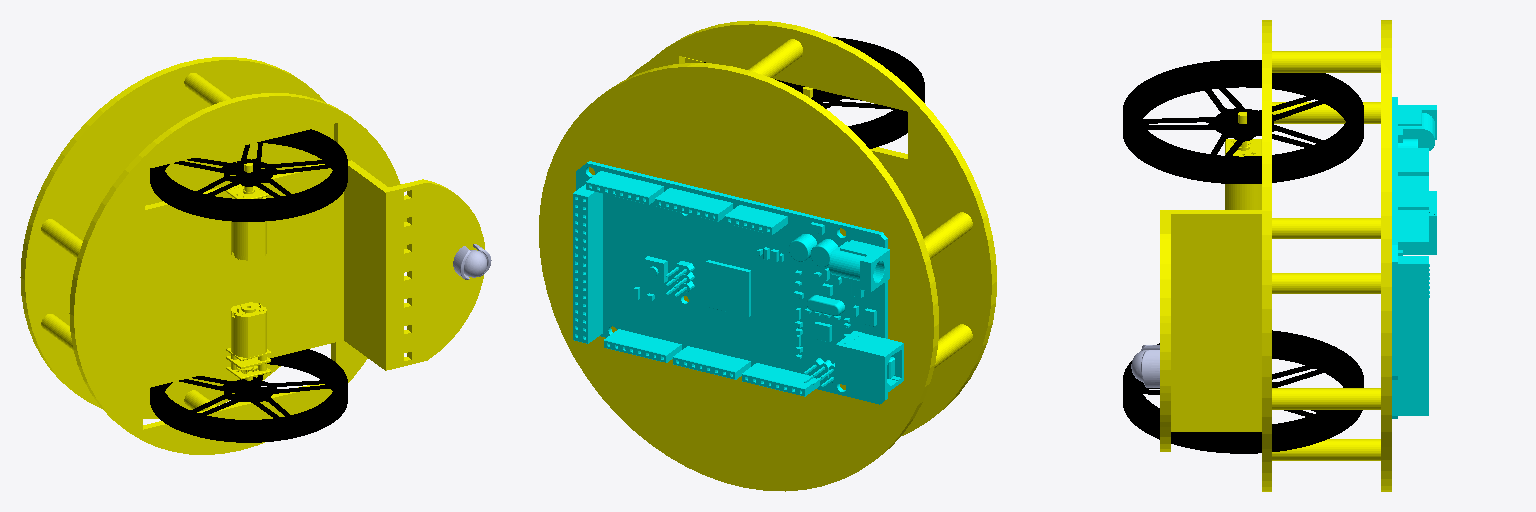
URDF robot description (Lastbotslrc7):
<?xml version="1.0" encoding="utf-8"?>
<!-- This URDF was automatically created by SolidWorks to URDF Exporter! Originally created by [author] ([email redacted]) 
     Commit Version: 1.6.0-1-g15f4949  Build Version: 1.6.7594.29634
     For more information, please see http://wiki.ros.org/sw_urdf_exporter -->
<robot
  name="Lastbotslrc7">
  <link
    name="base_link">
    <inertial>
      <origin
        xyz="0.0063307 0.011404 -7.1446E-05"
        rpy="0 0 0" />
      <mass
        value="0.089257" />
      <inertia
        ixx="8.9984E-05"
        ixy="9.8359E-06"
        ixz="2.9547E-07"
        iyy="0.00019757"
        iyz="-7.3502E-08"
        izz="0.00012055" />
    </inertial>
    <visual>
      <origin
        xyz="0 0 0"
        rpy="0 0 0" />
      <geometry>
        <mesh
          filename="package://Lastbotslrc7/meshes/base_link.STL" />
      </geometry>
      <material
        name="">
        <color
          rgba="1 1 0 1" />
      </material>
    </visual>
    <collision>
      <origin
        xyz="0 0 0"
        rpy="0 0 0" />
      <geometry>
        <mesh
          filename="package://Lastbotslrc7/meshes/base_link.STL" />
      </geometry>
    </collision>
  </link>
  <link
    name="Body">
    <inertial>
      <origin
        xyz="0.0063307 0.011404 -7.1446E-05"
        rpy="0 0 0" />
      <mass
        value="0.089257" />
      <inertia
        ixx="8.9984E-05"
        ixy="9.8359E-06"
        ixz="2.9547E-07"
        iyy="0.00019757"
        iyz="-7.3502E-08"
        izz="0.00012055" />
    </inertial>
    <visual>
      <origin
        xyz="0 0 0"
        rpy="0 0 0" />
      <geometry>
        <mesh
          filename="package://Lastbotslrc7/meshes/Body.STL" />
      </geometry>
      <material
        name="">
        <color
          rgba="1 1 0 1" />
      </material>
    </visual>
    <collision>
      <origin
        xyz="0 0 0"
        rpy="0 0 0" />
      <geometry>
        <mesh
          filename="package://Lastbotslrc7/meshes/Body.STL" />
      </geometry>
    </collision>
  </link>
  <joint
    name="Body"
    type="fixed">
    <origin
      xyz="0 0 0"
      rpy="0 0 0" />
    <parent
      link="base_link" />
    <child
      link="Body" />
    <axis
      xyz="0 0 0" />
  </joint>
  <link
    name="Battery">
    <inertial>
      <origin
        xyz="0.0012512 0.011765 -0.00030378"
        rpy="0 0 0" />
      <mass
        value="0.18108" />
      <inertia
        ixx="0.00017695"
        ixy="2.3058E-05"
        ixz="4.2028E-07"
        iyy="0.0002939"
        iyz="8.2665E-08"
        izz="0.00024011" />
    </inertial>
    <visual>
      <origin
        xyz="0 0 0"
        rpy="0 0 0" />
      <geometry>
        <mesh
          filename="package://Lastbotslrc7/meshes/Battery.STL" />
      </geometry>
      <material
        name="">
        <color
          rgba="0 0 0 1" />
      </material>
    </visual>
    <collision>
      <origin
        xyz="0 0 0"
        rpy="0 0 0" />
      <geometry>
        <mesh
          filename="package://Lastbotslrc7/meshes/Battery.STL" />
      </geometry>
    </collision>
  </link>
  <joint
    name="Battery"
    type="fixed">
    <origin
      xyz="0 0 0"
      rpy="0 0 0" />
    <parent
      link="base_link" />
    <child
      link="Battery" />
    <axis
      xyz="0 0 0" />
  </joint>
  <link
    name="Arduino">
    <inertial>
      <origin
        xyz="-0.00069521 0.036076 -0.00095523"
        rpy="0 0 0" />
      <mass
        value="0.01658" />
      <inertia
        ixx="4.6477E-06"
        ixy="1.0516E-07"
        ixz="3.5166E-08"
        iyy="2.2436E-05"
        iyz="3.2564E-08"
        izz="1.8112E-05" />
    </inertial>
    <visual>
      <origin
        xyz="0 0 0"
        rpy="0 0 0" />
      <geometry>
        <mesh
          filename="package://Lastbotslrc7/meshes/Arduino.STL" />
      </geometry>
      <material
        name="">
        <color
          rgba="0 1 1 1" />
      </material>
    </visual>
    <collision>
      <origin
        xyz="0 0 0"
        rpy="0 0 0" />
      <geometry>
        <mesh
          filename="package://Lastbotslrc7/meshes/Arduino.STL" />
      </geometry>
    </collision>
  </link>
  <joint
    name="Arduino"
    type="fixed">
    <origin
      xyz="0 0 0"
      rpy="0 0 0" />
    <parent
      link="base_link" />
    <child
      link="Arduino" />
    <axis
      xyz="0 0 0" />
  </joint>
  <link
    name="CasterBall">
    <inertial>
      <origin
        xyz="-5.7196E-06 0.0013545 7.0189E-05"
        rpy="0 0 0" />
      <mass
        value="0.0007555" />
      <inertia
        ixx="1.0551E-08"
        ixy="-1.3599E-11"
        ixz="3.976E-11"
        iyy="1.3964E-08"
        iyz="1.7377E-10"
        izz="9.9649E-09" />
    </inertial>
    <visual>
      <origin
        xyz="0 0 0"
        rpy="0 0 0" />
      <geometry>
        <mesh
          filename="package://Lastbotslrc7/meshes/CasterBall.STL" />
      </geometry>
      <material
        name="">
        <color
          rgba="0.79216 0.81961 0.93333 1" />
      </material>
    </visual>
    <collision>
      <origin
        xyz="0 0 0"
        rpy="0 0 0" />
      <geometry>
        <mesh
          filename="package://Lastbotslrc7/meshes/CasterBall.STL" />
      </geometry>
    </collision>
  </link>
  <joint
    name="CasterBall"
    type="fixed">
    <origin
      xyz="0.072312 -0.034316 8.4751E-05"
      rpy="0 0.072469 0" />
    <parent
      link="base_link" />
    <child
      link="CasterBall" />
    <axis
      xyz="0 0 0" />
  </joint>
  <link
    name="WheelRight">
    <inertial>
      <origin
        xyz="-0.00072984 3.9641E-05 -3.7936E-06"
        rpy="0 0 0" />
      <mass
        value="0.0056874" />
      <inertia
        ixx="5.1201E-06"
        ixy="1.7698E-11"
        ixz="-3.9013E-13"
        iyy="2.5808E-06"
        iyz="-1.9636E-12"
        izz="2.581E-06" />
    </inertial>
    <visual>
      <origin
        xyz="0 0 0"
        rpy="0 0 0" />
      <geometry>
        <mesh
          filename="package://Lastbotslrc7/meshes/WheelRight.STL" />
      </geometry>
      <material
        name="">
        <color
          rgba="0 0 0 1" />
      </material>
    </visual>
    <collision>
      <origin
        xyz="0 0 0"
        rpy="0 0 0" />
      <geometry>
        <mesh
          filename="package://Lastbotslrc7/meshes/WheelRight.STL" />
      </geometry>
    </collision>
  </link>
  <joint
    name="right wheel motor"
    type="continuous">
    <origin
      xyz="0.000116 -0.0080441 0.040028"
      rpy="0 1.5708 0" />
    <parent
      link="base_link" />
    <child
      link="WheelRight" />
    <axis
      xyz="0 0 0" />
  </joint>
  <link
    name="WheelLeft">
    <inertial>
      <origin
        xyz="0 0 0"
        rpy="0 0 0" />
      <mass
        value="0" />
      <inertia
        ixx="0"
        ixy="0"
        ixz="0"
        iyy="0"
        iyz="0"
        izz="0" />
    </inertial>
    <visual>
      <origin
        xyz="0 0 0"
        rpy="0 0 0" />
      <geometry>
        <mesh
          filename="package://Lastbotslrc7/meshes/WheelLeft.STL" />
      </geometry>
      <material
        name="">
        <color
          rgba="0 0 0 1" />
      </material>
    </visual>
    <collision>
      <origin
        xyz="0 0 0"
        rpy="0 0 0" />
      <geometry>
        <mesh
          filename="package://Lastbotslrc7/meshes/WheelLeft.STL" />
      </geometry>
    </collision>
  </link>
  <joint
    name="left wheel motor"
    type="continuous">
    <origin
      xyz="0.0001078 -0.0080441 -0.0404"
      rpy="0 1.5708 0" />
    <parent
      link="base_link" />
    <child
      link="WheelLeft" />
    <axis
      xyz="0 0 0" />
  </joint>
</robot>

--- Render facts (derived) ---
The picture shows the robot from 3 angles, left to right: view 1: azimuth 30°, elevation 25°; view 2: azimuth 150°, elevation 25°; view 3: azimuth 270°, elevation 25°; orthographic projection.
Model Lastbotslrc7 with 7 links and 6 joints (2 continuous, 4 fixed), rooted at base_link, posed all joints at 0.
Links seen in each view (by area): view 1: base_link, WheelRight, WheelLeft, Body, CasterBall; view 2: base_link, Arduino, WheelRight; view 3: base_link, WheelRight, Arduino, WheelLeft, Body, CasterBall.
Link boxes in pixels (bbox=[...]): base_link: bbox=[20, 57, 484, 454]; WheelRight: bbox=[150, 129, 347, 221]; WheelLeft: bbox=[150, 349, 347, 442]; Body: bbox=[226, 163, 270, 380]; CasterBall: bbox=[453, 244, 491, 279]; base_link: bbox=[539, 20, 996, 491]; Arduino: bbox=[573, 161, 903, 404]; WheelRight: bbox=[704, 37, 924, 148]; base_link: bbox=[1160, 20, 1391, 491]; WheelRight: bbox=[1123, 60, 1363, 183]; Arduino: bbox=[1392, 97, 1436, 418]; WheelLeft: bbox=[1123, 330, 1363, 453]; Body: bbox=[1225, 112, 1261, 209]; CasterBall: bbox=[1131, 345, 1159, 387].
Bounding box of the posed robot: 0.1439 × 0.0867 × 0.13 m (x, y, z).
Meshes: 7 distinct files referenced, 6 mesh visuals loaded (6 binary STL); not drawn: 1 (reference not matched to a file when rendering).
